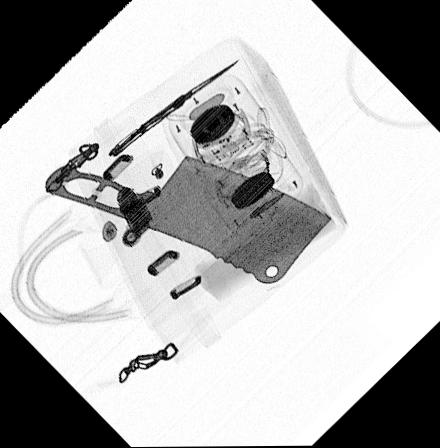Knife: (42, 154, 331, 284), (105, 59, 239, 157)
